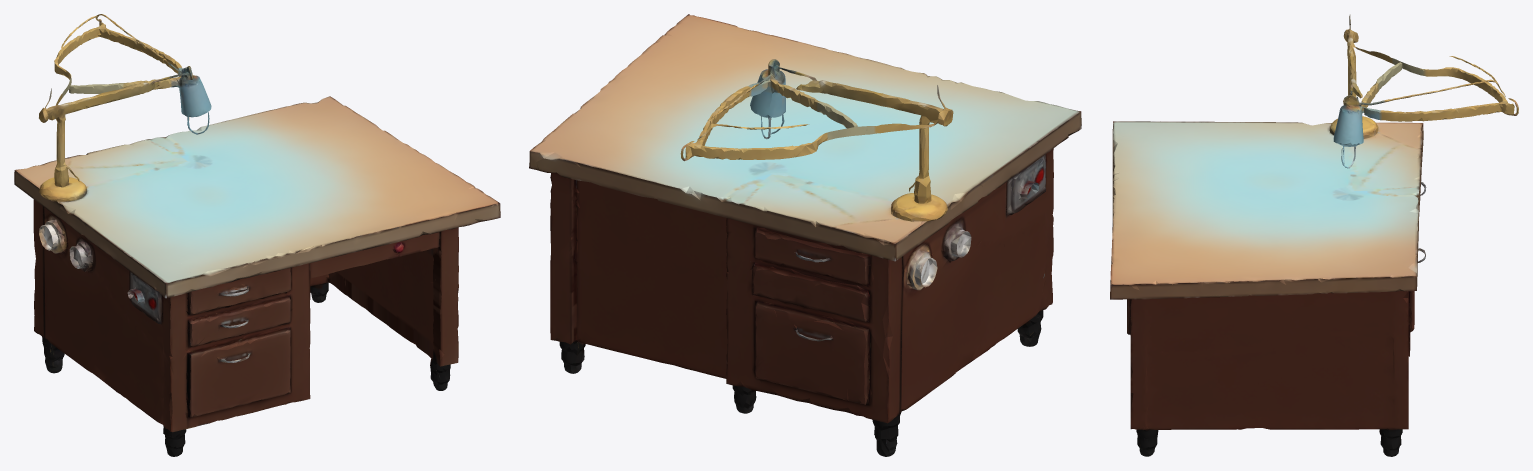
Rendered from Station_Fabricator.glb.
The picture shows the model from 3 angles, left to right: view 1: azimuth 30°, elevation 25°; view 2: azimuth 150°, elevation 25°; view 3: azimuth 270°, elevation 25°; orthographic projection. The views are drawn at different scales.
Parts seen in each view (by area): view 1: Station_Fabricator_v2; view 2: Station_Fabricator_v2; view 3: Station_Fabricator_v2.
Part boxes in pixels (x1,y1,x2,y2): Station_Fabricator_v2: [14, 14, 500, 456]; Station_Fabricator_v2: [529, 14, 1081, 456]; Station_Fabricator_v2: [1110, 14, 1518, 456].
Size of the model in its own units: 1.81 by 1.55 by 1.87.
1 material, 1 textured.
